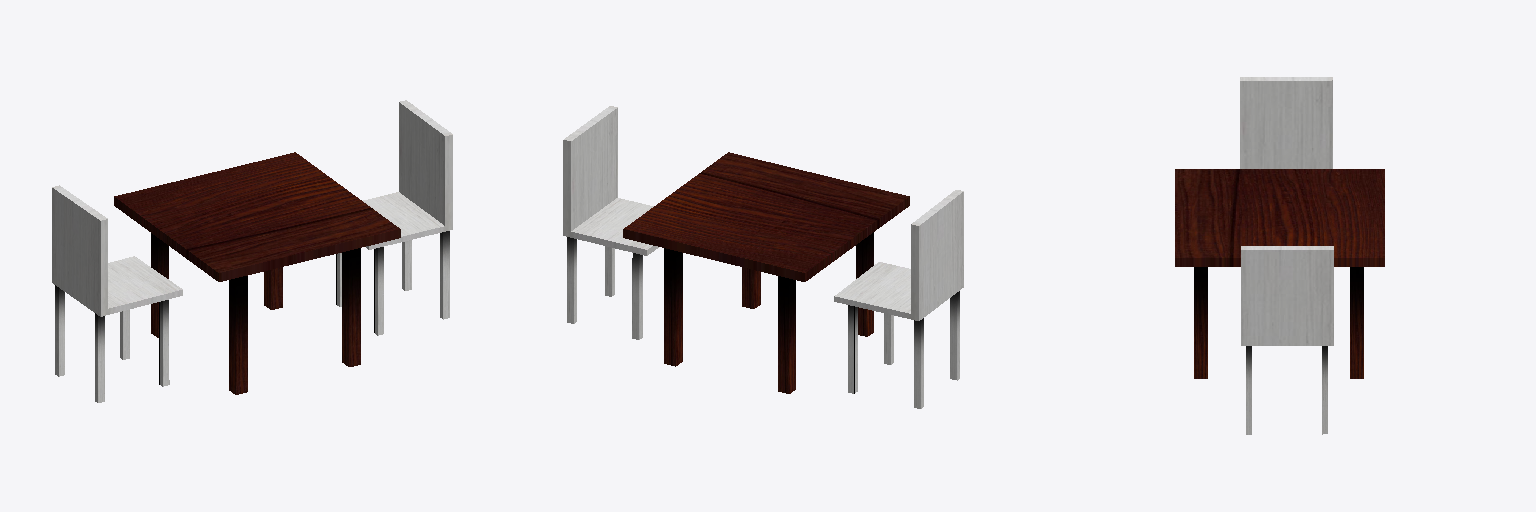
3 views of the same model, side by side, from view 1: azimuth 30°, elevation 25°; view 2: azimuth 150°, elevation 25°; view 3: azimuth 270°, elevation 25° (orthographic).
Bounding box in the file's own units: 2.36 × 1.18 × 1.2.
Materials: 1 (1 with a texture image).